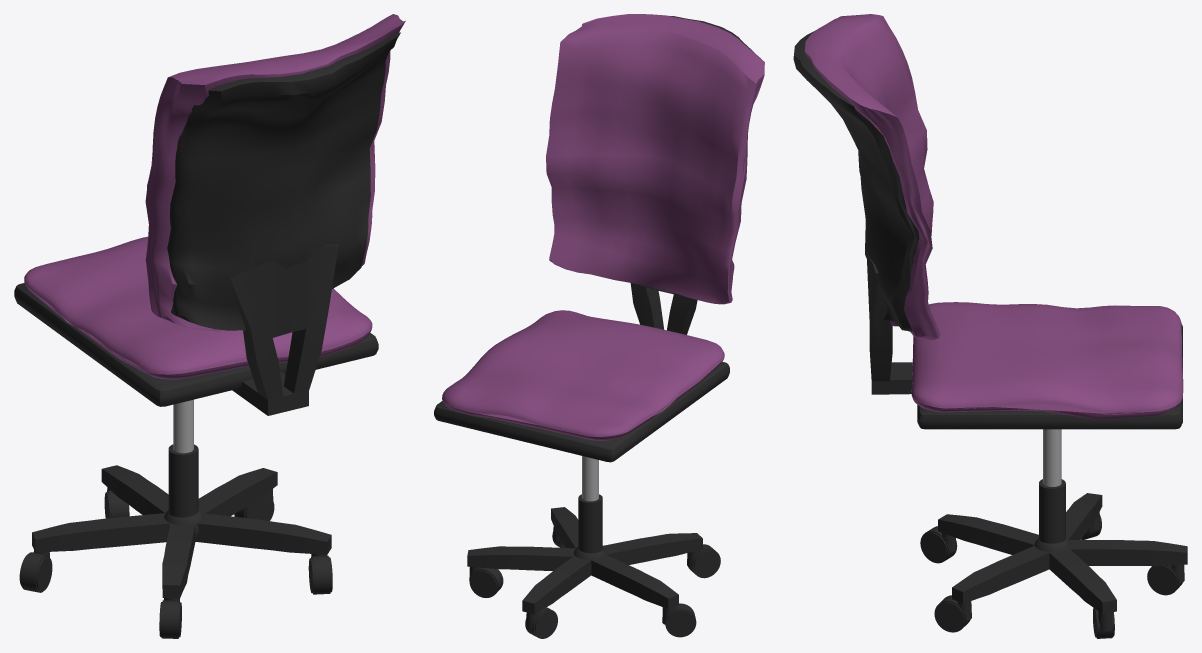
The model's file is Purple_Chair_Finished.fbx.
3 renders of one model, left to right at view 1: azimuth 30°, elevation 25°; view 2: azimuth 150°, elevation 25°; view 3: azimuth 270°, elevation 25°, orthographic. The views are drawn at different scales.
Visible parts, largest first — view 1: Backrest, Seat_Padding, Headrest_Frame, Seat_Frame, Cube_5, Cube_2, Cube_4, Cylinder_3, Cube_1, Cube, Cube_3, Cylinder_1 (+4 smaller); view 2: Backrest, Seat_Padding, Seat_Frame, Cube_4, Cube_5, Cube, Headrest_Frame, Cube_1, Cylinder_3, Cube_2, Cylinder_1, Cylinder_7 (+3 smaller); view 3: Seat_Padding, Backrest, Seat_Frame, Cube_1, Cube_2, Cube, Headrest_Frame, Cube_4, Cylinder_3, Cube_5, Cylinder_1, Cube_3 (+3 smaller).
Part boxes in pixels (x1,y1,x2,y2): Backrest: (145, 14, 405, 331); Seat_Padding: (24, 236, 372, 379); Headrest_Frame: (229, 244, 338, 399); Seat_Frame: (14, 283, 378, 406); Cube_5: (32, 513, 170, 552); Cube_2: (195, 513, 331, 554); Cube_4: (198, 468, 277, 516); Cylinder_3: (168, 444, 198, 517); Cube_1: (101, 465, 168, 514); Cube: (162, 523, 195, 598); Cube_3: (232, 372, 308, 415); Cylinder_1: (173, 399, 193, 453); Backrest: (546, 14, 764, 304); Seat_Padding: (442, 310, 724, 440); Seat_Frame: (434, 362, 729, 462); Cube_4: (467, 546, 575, 570); Cube_5: (591, 554, 678, 609); Cube: (602, 533, 702, 564); Headrest_Frame: (630, 283, 697, 334); Cube_1: (522, 555, 591, 614); Cylinder_3: (578, 494, 602, 553); Cube_2: (551, 507, 578, 548); Cylinder_1: (582, 456, 598, 501); Cylinder_7: (666, 610, 694, 636); Seat_Padding: (911, 302, 1183, 419); Backrest: (793, 14, 940, 340); Seat_Frame: (917, 324, 1182, 429); Cube_1: (1068, 540, 1187, 565); Cube_2: (952, 545, 1050, 603); Cube: (938, 514, 1038, 554); Headrest_Frame: (866, 252, 892, 381); Cube_4: (1049, 548, 1116, 613); Cylinder_3: (1039, 479, 1065, 543); Cube_5: (1066, 493, 1102, 539); Cylinder_1: (1043, 429, 1061, 486); Cube_3: (871, 362, 912, 394).
Size of the model in its own units: 182 by 390 by 255.
